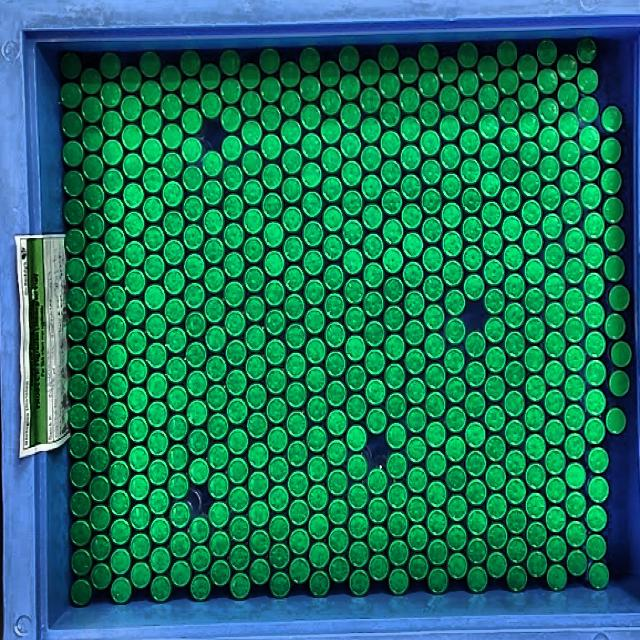vial: (62, 198, 84, 226), (59, 82, 82, 108), (70, 579, 92, 606), (578, 66, 600, 93), (70, 460, 90, 489), (60, 52, 82, 78), (62, 170, 84, 196), (608, 371, 630, 397), (442, 232, 463, 259), (324, 264, 344, 292), (564, 316, 584, 344), (603, 105, 622, 134), (479, 113, 498, 142), (324, 234, 344, 261), (588, 477, 608, 504), (487, 523, 507, 550), (71, 519, 90, 547), (586, 508, 608, 532), (604, 257, 626, 281), (61, 140, 82, 165), (64, 229, 85, 254), (65, 258, 86, 283), (67, 345, 88, 370), (67, 374, 88, 399), (609, 286, 630, 311), (104, 198, 124, 224), (70, 550, 90, 576), (184, 166, 204, 192), (426, 421, 446, 447), (365, 321, 385, 347), (428, 567, 448, 593), (388, 511, 408, 537), (590, 564, 610, 590), (588, 447, 608, 473), (585, 418, 605, 444), (545, 420, 565, 446), (565, 404, 585, 430), (486, 435, 506, 461), (546, 302, 566, 328), (525, 288, 545, 314), (525, 258, 545, 284), (602, 168, 622, 194), (580, 126, 600, 152), (580, 156, 600, 182), (560, 140, 580, 166), (343, 190, 362, 217), (282, 119, 301, 146), (448, 524, 467, 551), (488, 552, 507, 579), (566, 433, 585, 460), (545, 360, 564, 387), (586, 331, 605, 358), (499, 67, 518, 94), (59, 112, 82, 134), (66, 317, 87, 341), (128, 418, 149, 442), (310, 573, 331, 597), (366, 379, 384, 407), (586, 536, 607, 560), (546, 242, 564, 270), (538, 38, 556, 66), (124, 212, 144, 237), (66, 287, 86, 312), (68, 404, 88, 429), (112, 578, 132, 603), (90, 506, 110, 531), (165, 299, 185, 324), (127, 359, 147, 384), (348, 485, 368, 510), (347, 396, 367, 421), (265, 310, 285, 335), (321, 91, 341, 116), (445, 349, 465, 374), (426, 393, 446, 418), (364, 262, 384, 287), (447, 496, 467, 521), (468, 567, 488, 592), (612, 342, 632, 367), (524, 405, 544, 430), (606, 314, 626, 339), (560, 171, 580, 196), (167, 356, 186, 382), (346, 336, 365, 362), (345, 278, 364, 304), (344, 220, 363, 246), (322, 148, 341, 174), (462, 188, 481, 214), (463, 216, 482, 242), (443, 261, 462, 287), (405, 319, 424, 345), (408, 496, 427, 522), (506, 451, 525, 477), (486, 464, 505, 490), (607, 408, 626, 434), (587, 360, 606, 386), (505, 274, 524, 300), (540, 126, 559, 152), (541, 184, 560, 210), (497, 40, 516, 66), (228, 398, 246, 425), (409, 525, 427, 552), (542, 215, 563, 238), (202, 93, 222, 117), (142, 138, 162, 162), (85, 244, 105, 268), (70, 434, 90, 458), (91, 564, 111, 588), (188, 430, 208, 454), (188, 401, 208, 425), (106, 256, 126, 280), (106, 286, 126, 310), (350, 572, 370, 596), (230, 517, 250, 541), (270, 544, 290, 568), (287, 413, 307, 437), (247, 414, 267, 438), (326, 352, 346, 376), (325, 294, 345, 318), (303, 222, 323, 246), (245, 268, 265, 292), (223, 196, 243, 220), (263, 194, 283, 218), (342, 162, 362, 186), (340, 76, 360, 100), (380, 104, 400, 128), (420, 101, 440, 125), (420, 131, 440, 155), (381, 162, 401, 186), (442, 203, 462, 227), (403, 234, 423, 258), (424, 276, 444, 300), (406, 408, 426, 432), (546, 479, 566, 503), (526, 464, 546, 488), (487, 495, 507, 519), (565, 377, 585, 401), (566, 347, 586, 371), (585, 304, 605, 328), (484, 290, 504, 314), (605, 228, 625, 252), (484, 262, 504, 286), (584, 214, 604, 238), (523, 229, 543, 253), (502, 217, 522, 241), (581, 184, 601, 208), (480, 144, 500, 168), (326, 322, 345, 347), (246, 326, 265, 351), (303, 192, 322, 217), (284, 237, 303, 262), (381, 132, 400, 157), (402, 146, 421, 171), (361, 147, 380, 172), (463, 246, 482, 271), (422, 189, 441, 214), (467, 451, 486, 476), (408, 468, 427, 493), (468, 510, 487, 535), (369, 497, 388, 522), (567, 552, 586, 577), (546, 390, 565, 415), (526, 376, 545, 401), (585, 274, 604, 299), (84, 126, 102, 152), (228, 370, 246, 396), (383, 190, 401, 216), (384, 248, 402, 274), (424, 247, 442, 273), (446, 291, 464, 317), (486, 405, 504, 431), (546, 331, 564, 357), (546, 274, 564, 300), (566, 228, 584, 254), (502, 188, 520, 214), (186, 344, 207, 366), (101, 54, 121, 77), (102, 84, 122, 107), (182, 109, 202, 132), (104, 170, 124, 193), (85, 215, 105, 238), (131, 535, 151, 558), (110, 491, 130, 514), (128, 388, 148, 411), (109, 434, 129, 457), (350, 543, 370, 566), (309, 486, 329, 509), (328, 472, 348, 495), (306, 369, 326, 392), (306, 340, 326, 363), (341, 105, 361, 128), (302, 164, 322, 187), (242, 121, 262, 144), (320, 63, 340, 86), (402, 205, 422, 228), (426, 336, 446, 359), (526, 495, 546, 518), (584, 246, 604, 269), (578, 41, 598, 64), (182, 80, 201, 104), (122, 96, 141, 120), (162, 96, 181, 120), (184, 226, 203, 250), (148, 402, 167, 426), (127, 331, 146, 355), (89, 389, 108, 413), (222, 78, 241, 102), (204, 210, 223, 234), (205, 239, 224, 263), (205, 269, 224, 293), (208, 386, 227, 410), (209, 445, 228, 469), (209, 502, 228, 526), (290, 530, 309, 554), (349, 514, 368, 538), (348, 455, 367, 479), (328, 410, 347, 434), (247, 384, 266, 408), (287, 354, 306, 378), (266, 340, 285, 364), (344, 250, 363, 274), (324, 206, 343, 230), (225, 283, 244, 307), (245, 297, 264, 321), (263, 164, 282, 188), (322, 119, 341, 143), (283, 179, 302, 203), (281, 62, 300, 86), (459, 44, 478, 68), (402, 176, 421, 200), (423, 218, 442, 242), (363, 235, 382, 259), (466, 334, 485, 358), (446, 319, 465, 343), (467, 480, 486, 504), (447, 466, 466, 490), (427, 453, 446, 477), (428, 510, 447, 534), (409, 555, 428, 579), (389, 541, 408, 565), (507, 509, 526, 533), (587, 390, 606, 414), (526, 318, 545, 342), (562, 200, 581, 224), (483, 230, 502, 254), (602, 139, 621, 163), (580, 98, 599, 122), (142, 109, 160, 134), (172, 561, 190, 586), (165, 211, 183, 236), (166, 269, 184, 294), (168, 416, 186, 441), (208, 357, 226, 382), (308, 396, 326, 421), (288, 383, 306, 408), (287, 324, 305, 349), (247, 355, 265, 380), (306, 308, 324, 333), (342, 134, 360, 159), (283, 149, 301, 174), (384, 219, 402, 244), (462, 159, 480, 184), (425, 305, 443, 330), (406, 379, 424, 404), (468, 538, 486, 563), (429, 540, 447, 565), (389, 569, 407, 594), (370, 555, 388, 580), (508, 567, 526, 592), (507, 479, 525, 504), (486, 375, 504, 400), (565, 289, 583, 314), (525, 347, 543, 372), (506, 332, 524, 357), (186, 254, 203, 280), (149, 373, 166, 399), (506, 391, 523, 417), (480, 56, 497, 82), (140, 53, 160, 75), (81, 100, 101, 122), (161, 68, 181, 90), (123, 154, 143, 176), (83, 155, 103, 177), (84, 186, 104, 208), (90, 478, 110, 500), (186, 314, 206, 336), (146, 286, 166, 308), (144, 197, 164, 219), (210, 533, 230, 555), (229, 489, 249, 511), (289, 502, 309, 524), (249, 473, 269, 495), (248, 445, 268, 467), (267, 400, 287, 422), (225, 312, 245, 334), (264, 253, 284, 275), (322, 178, 342, 200), (222, 137, 242, 159), (380, 74, 400, 96), (464, 276, 484, 298), (545, 452, 565, 474), (504, 246, 524, 268), (500, 129, 520, 151), (479, 88, 499, 110), (130, 505, 149, 528), (90, 448, 109, 471), (188, 372, 207, 395), (185, 285, 204, 308), (126, 271, 145, 294), (108, 404, 127, 427), (329, 501, 348, 524), (228, 430, 247, 453), (347, 367, 366, 390), (305, 281, 324, 304), (304, 252, 323, 275), (285, 267, 304, 290), (264, 224, 283, 247), (223, 167, 242, 190), (302, 106, 321, 129), (400, 59, 419, 82), (361, 89, 380, 112), (400, 89, 419, 112), (363, 205, 382, 228), (441, 146, 460, 169), (466, 362, 485, 385), (446, 378, 465, 401), (405, 293, 424, 316), (406, 351, 425, 374), (388, 485, 407, 508), (547, 566, 566, 589), (547, 508, 566, 531), (506, 363, 525, 386), (520, 143, 539, 166), (481, 173, 500, 196), (183, 137, 201, 161), (125, 182, 143, 206), (86, 273, 104, 297), (71, 492, 89, 516), (192, 575, 210, 599), (132, 564, 150, 588), (152, 548, 170, 572), (192, 546, 210, 570), (110, 462, 128, 486), (190, 460, 208, 484), (164, 183, 182, 207), (165, 241, 183, 265), (167, 328, 185, 352), (169, 387, 187, 411), (147, 314, 165, 338), (146, 255, 164, 279), (88, 302, 106, 326), (222, 110, 240, 134), (206, 298, 224, 322), (207, 327, 225, 351), (209, 414, 227, 438), (210, 473, 228, 497), (346, 308, 364, 332), (227, 342, 245, 366), (263, 135, 281, 159), (282, 92, 300, 116), (420, 45, 438, 69), (439, 58, 457, 82), (362, 119, 380, 143), (441, 87, 459, 111), (461, 132, 479, 156), (442, 174, 460, 198), (426, 364, 444, 388), (386, 364, 404, 388), (387, 394, 405, 418), (366, 350, 384, 374), (388, 424, 406, 448), (407, 438, 425, 462), (447, 408, 465, 432), (428, 483, 446, 507), (449, 553, 467, 577), (526, 435, 544, 459), (506, 420, 524, 444), (486, 348, 504, 372), (485, 318, 503, 342), (523, 201, 541, 225), (483, 202, 501, 226), (502, 158, 520, 182), (520, 114, 538, 138), (185, 196, 202, 221), (386, 335, 403, 360), (568, 521, 585, 546), (560, 113, 577, 138), (170, 503, 190, 524), (130, 478, 150, 499), (89, 419, 109, 440), (268, 459, 288, 480), (327, 443, 347, 464), (266, 371, 286, 392), (422, 162, 442, 183), (504, 305, 524, 326), (82, 71, 101, 93), (181, 52, 200, 74), (221, 51, 240, 73), (103, 112, 122, 134), (163, 154, 182, 176), (105, 230, 124, 252), (91, 536, 110, 558), (191, 520, 210, 542), (147, 346, 166, 368), (126, 302, 145, 324), (108, 346, 127, 368), (203, 153, 222, 175), (211, 563, 230, 585), (251, 560, 270, 582), (250, 503, 269, 525), (310, 516, 329, 538), (289, 473, 308, 495), (269, 488, 288, 510), (348, 427, 367, 449), (265, 282, 284, 304), (224, 254, 243, 276), (244, 182, 263, 204), (302, 136, 321, 158), (261, 78, 280, 100), (340, 49, 359, 71), (379, 46, 398, 68), (441, 118, 460, 140), (446, 438, 465, 460), (547, 538, 566, 560), (527, 524, 546, 546), (566, 465, 585, 487), (604, 200, 623, 222), (558, 56, 577, 78), (559, 85, 578, 107), (540, 98, 556, 124), (122, 125, 140, 148), (104, 141, 122, 164), (152, 577, 170, 600), (149, 431, 167, 454), (109, 374, 127, 397), (89, 361, 107, 384), (272, 574, 290, 597), (291, 559, 309, 582), (251, 532, 269, 555), (310, 544, 328, 567), (284, 208, 302, 231), (286, 296, 304, 319), (262, 106, 280, 129), (402, 118, 420, 141), (362, 177, 380, 200), (386, 307, 404, 330), (367, 411, 385, 434), (568, 494, 586, 517), (539, 70, 557, 93), (541, 157, 559, 180), (518, 85, 536, 108), (164, 124, 181, 148), (89, 331, 106, 355), (205, 180, 222, 204), (461, 100, 478, 124), (467, 393, 484, 417), (523, 172, 540, 196), (149, 462, 169, 482), (260, 50, 280, 70), (302, 48, 318, 73), (122, 70, 141, 91), (151, 520, 170, 541), (107, 318, 126, 339), (244, 239, 263, 260), (224, 225, 243, 246), (360, 62, 379, 83), (459, 73, 478, 94), (202, 66, 220, 88), (112, 549, 130, 571), (150, 490, 168, 512), (169, 446, 187, 468), (130, 447, 148, 469), (145, 227, 163, 249), (126, 243, 144, 265), (242, 93, 260, 115), (270, 518, 288, 540), (229, 460, 247, 482), (308, 429, 326, 451), (327, 383, 345, 405), (269, 430, 287, 452), (244, 210, 262, 232), (243, 152, 261, 174), (302, 78, 320, 100), (420, 74, 438, 96), (368, 471, 386, 493), (467, 424, 485, 446), (528, 553, 546, 575), (500, 100, 518, 122), (509, 538, 526, 561), (141, 83, 160, 103), (143, 170, 162, 190), (111, 522, 130, 542), (169, 476, 188, 496), (388, 456, 407, 476), (232, 548, 250, 569), (331, 559, 349, 580), (308, 458, 326, 479), (288, 444, 306, 465), (385, 280, 403, 301), (404, 265, 422, 286), (172, 534, 189, 556), (241, 66, 258, 88), (331, 530, 348, 552), (519, 57, 536, 79), (366, 293, 382, 316), (232, 575, 248, 597)
